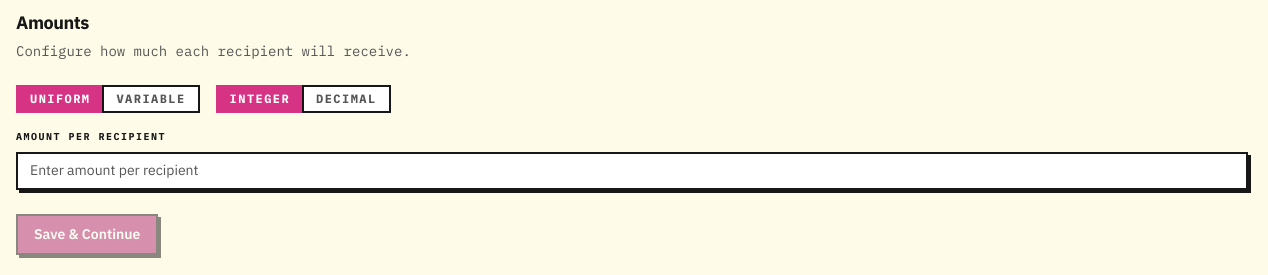
AmountsStep › enables continue in variable mode without amount
This screenshot has width=1268, height=275.
Click the button "Variable" at (151, 99), box left=102, top=85, right=200, bottom=113
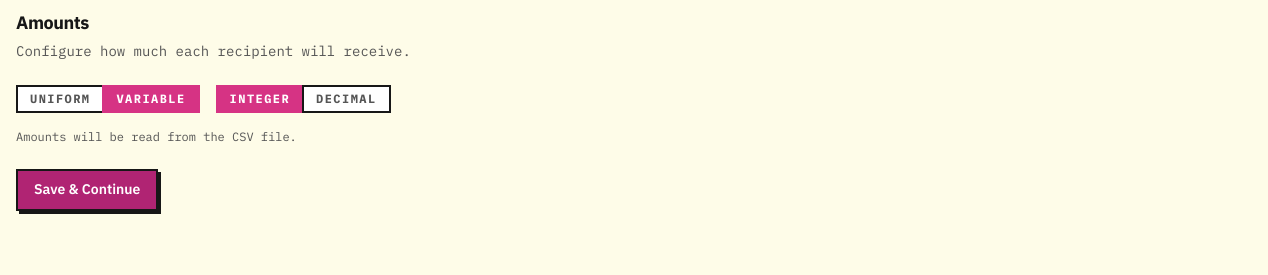
Expected: the button "Save & Continue" is enabled, left=16, top=169, right=158, bottom=210
